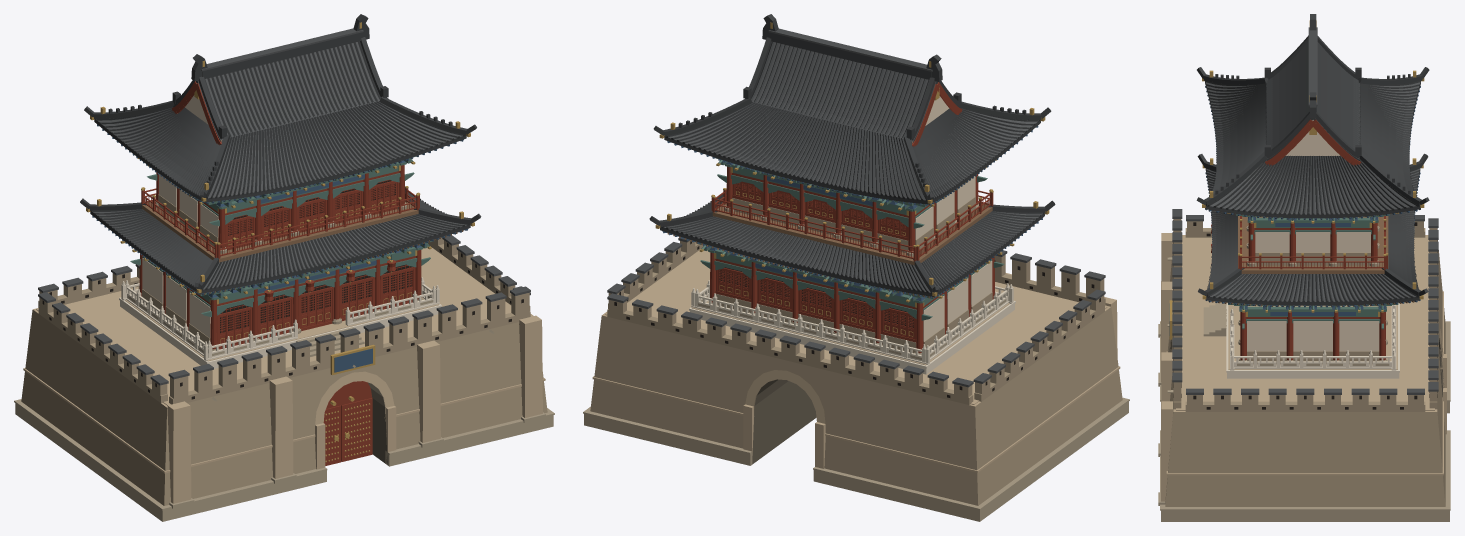
3 views of the same model, side by side, from view 1: azimuth 30°, elevation 25°; view 2: azimuth 150°, elevation 25°; view 3: azimuth 270°, elevation 25° (orthographic). The views are drawn at different scales.
Visible parts, largest first — view 1: J02; view 2: J02; view 3: J02.
Boxes of the visible parts, x1,y1,x2,y2 form: J02: (14, 14, 554, 521); J02: (583, 14, 1129, 521); J02: (1158, 14, 1450, 521).
Size of the model in its own units: 34.62 by 32.21 by 22.76.
